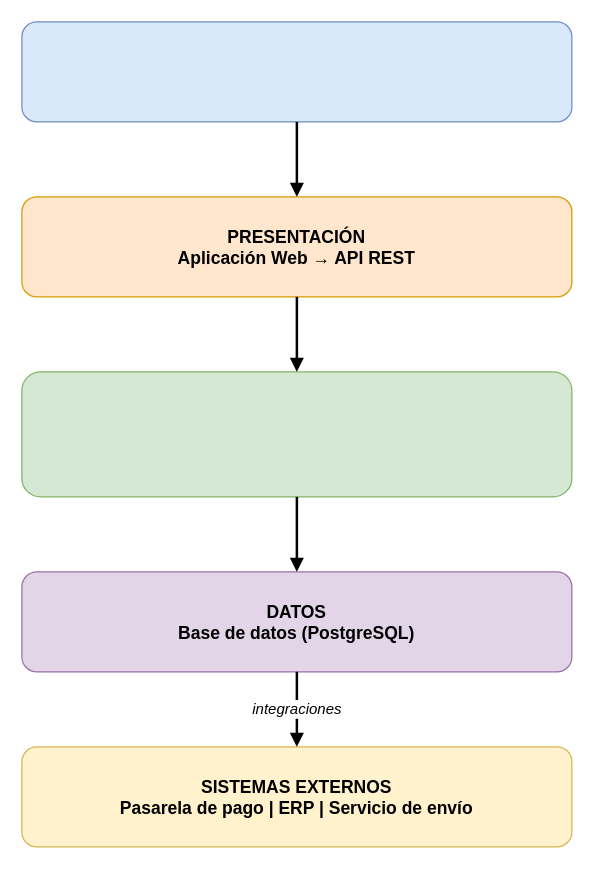
Some shapes in this 594 by 869 pixel diagram are drawn without their labels. The box of each missing label's shape, as (x1, y1, x2, y2) in pixels:
ACTORES Cliente | Seller | Administrador: (21, 21, 572, 122)
LÓGICA DE NEGOCIO Usuarios | Sellers | Catálogo | Carrito | Pedidos: (21, 371, 572, 497)
